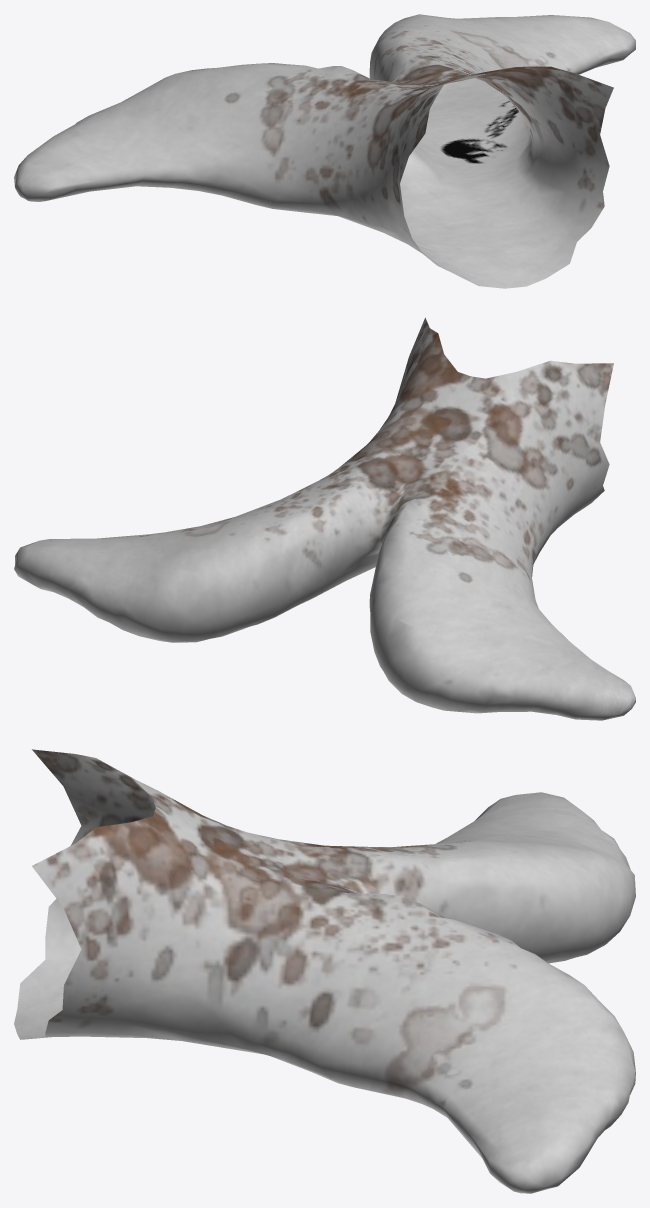
The model's file is seal_tail.obj.
3 renders of one model, top to bottom at view 1: azimuth 30°, elevation 25°; view 2: azimuth 150°, elevation 25°; view 3: azimuth 270°, elevation 25°, orthographic. The views are drawn at different scales.
Parts seen in each view (by area): view 1: defaultMaterial.001; view 2: defaultMaterial.001; view 3: defaultMaterial.001.
Part boxes in pixels (box(x1,y1,x2,y2)): defaultMaterial.001: box(14, 14, 635, 288); defaultMaterial.001: box(14, 317, 635, 720); defaultMaterial.001: box(14, 749, 635, 1193).
Size of the model in its own units: 0.7815 by 0.2236 by 0.5417.
